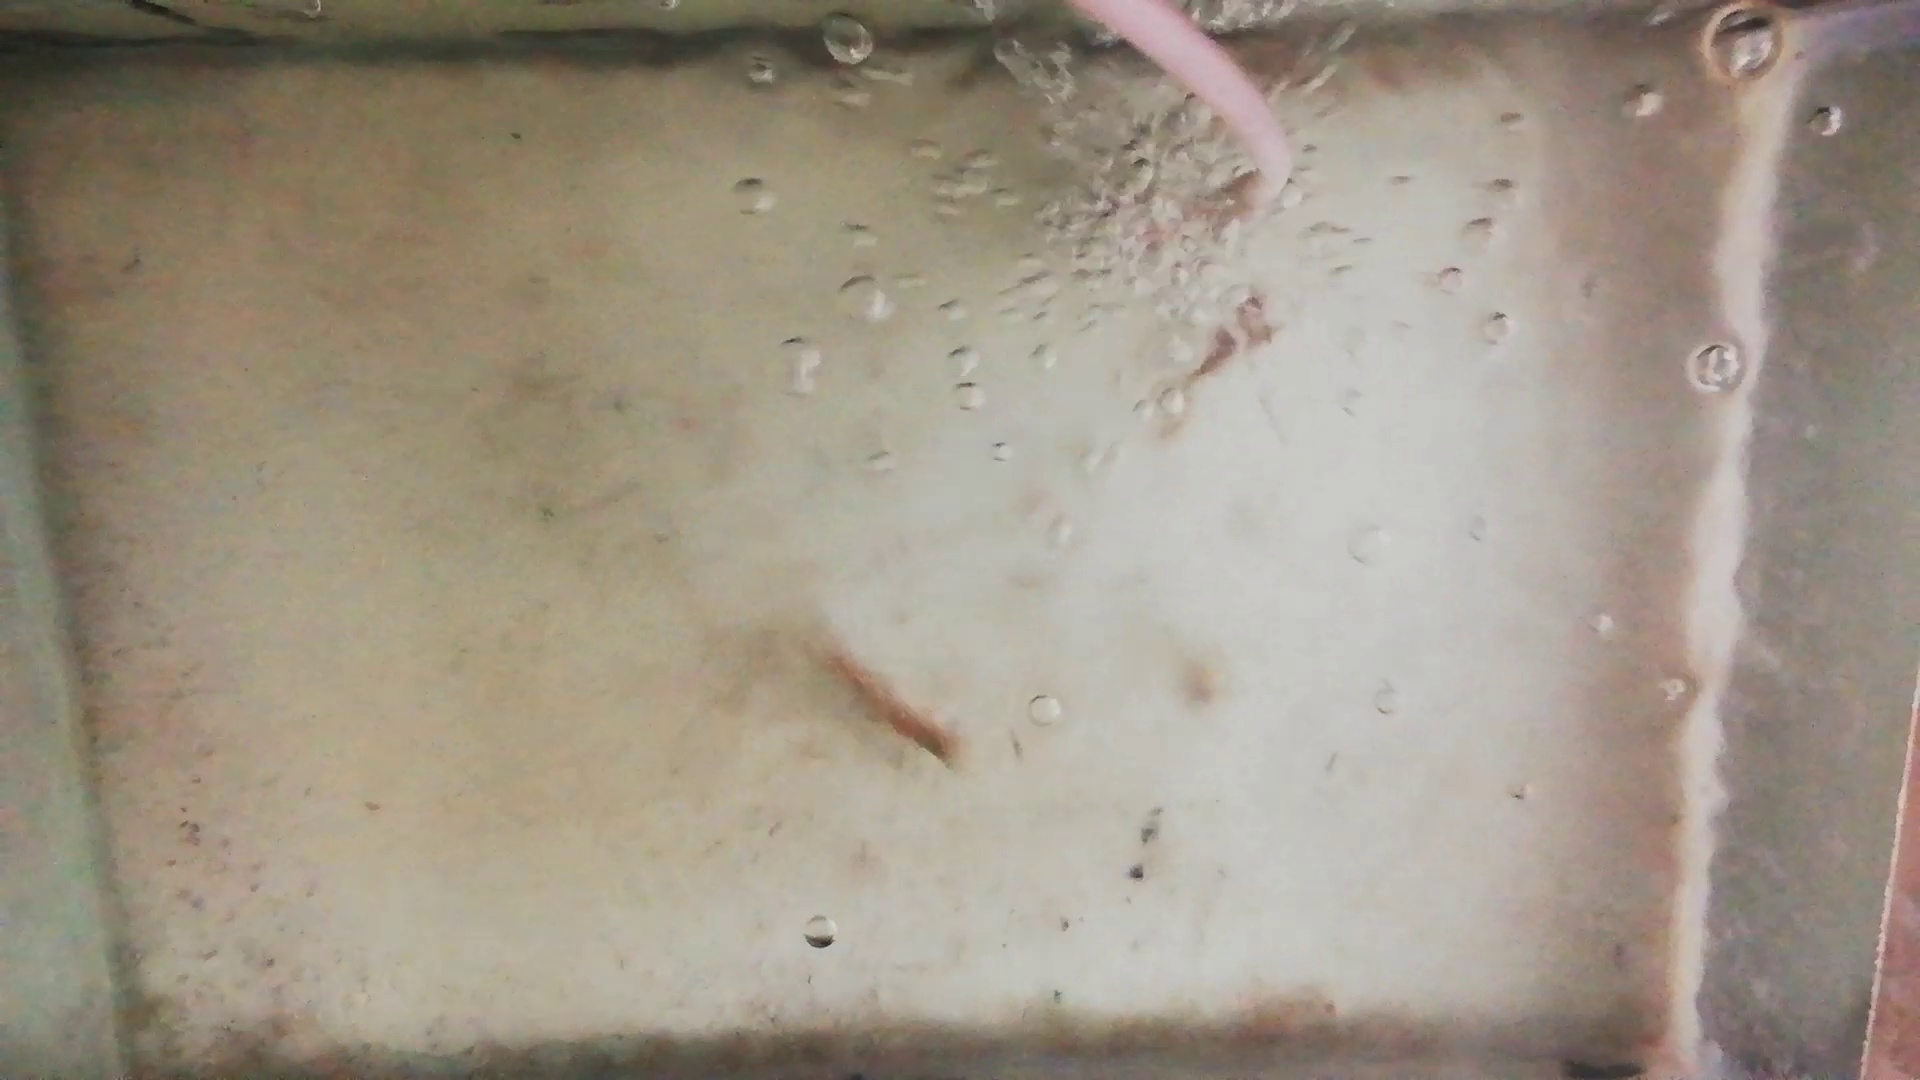fish: (787, 630, 961, 767), (1160, 291, 1276, 394)
